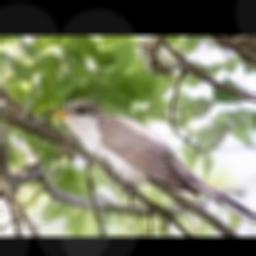Cuckoo: (46, 99, 256, 222)
